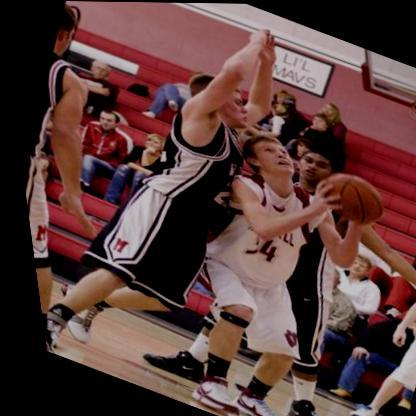basketball: (302, 162, 390, 235)
